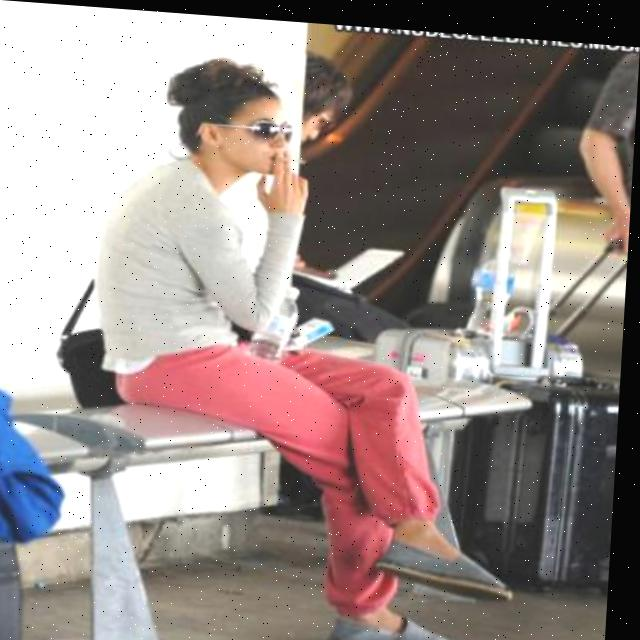cigarette: (277, 152, 308, 159)
